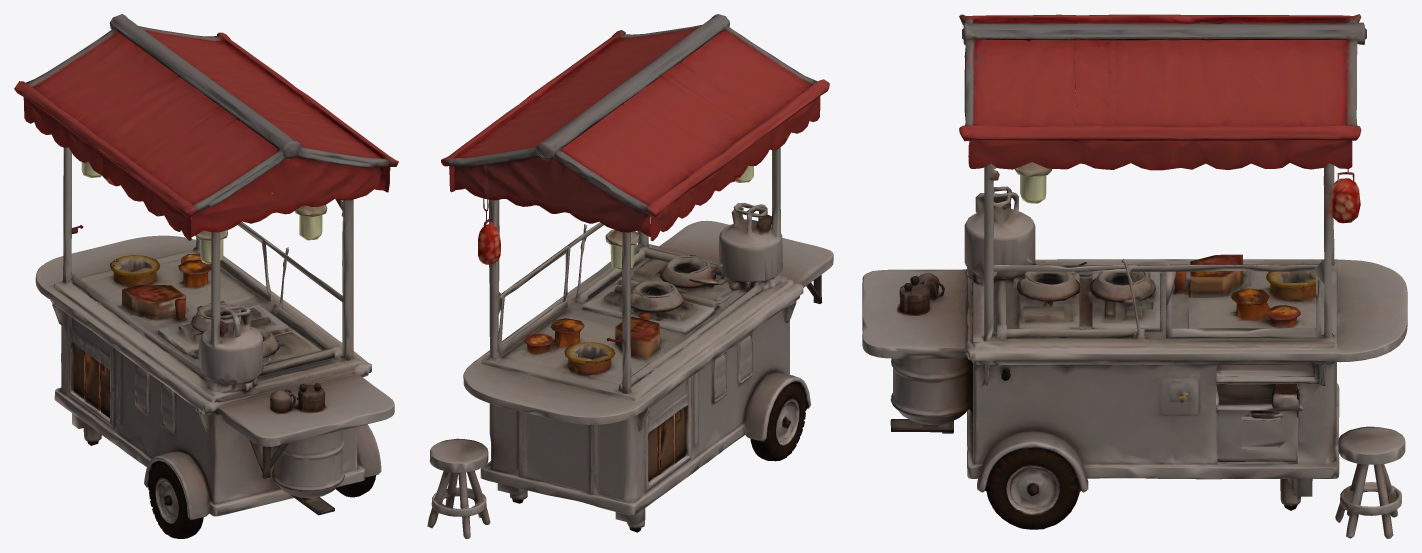
The model's file is webtoon_alley_food_cart.glb.
3 views of the same model, side by side, from view 1: azimuth 30°, elevation 25°; view 2: azimuth 150°, elevation 25°; view 3: azimuth 270°, elevation 25° (orthographic). The views are drawn at different scales.
Visible parts, largest first — view 1: webtoon_alley_food_cart_mesh_00; view 2: webtoon_alley_food_cart_mesh_00; view 3: webtoon_alley_food_cart_mesh_00.
Boxes of the visible parts, box(x1,y1,x2,y2) form: webtoon_alley_food_cart_mesh_00: box(14, 14, 398, 538); webtoon_alley_food_cart_mesh_00: box(427, 14, 833, 538); webtoon_alley_food_cart_mesh_00: box(862, 14, 1407, 538).
Bounding box in the file's own units: 1.44 × 2.55 × 2.76.
Materials: 1 (1 with a texture image).
